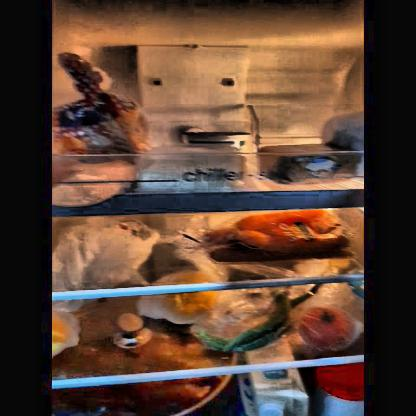butter: (258, 142, 362, 190)
carrot: (218, 211, 354, 258)
cheese: (140, 147, 256, 191)
green_chillies: (226, 297, 295, 356)
lemon: (152, 272, 223, 320)
milk: (236, 348, 320, 415)
tomato: (297, 302, 356, 348)
